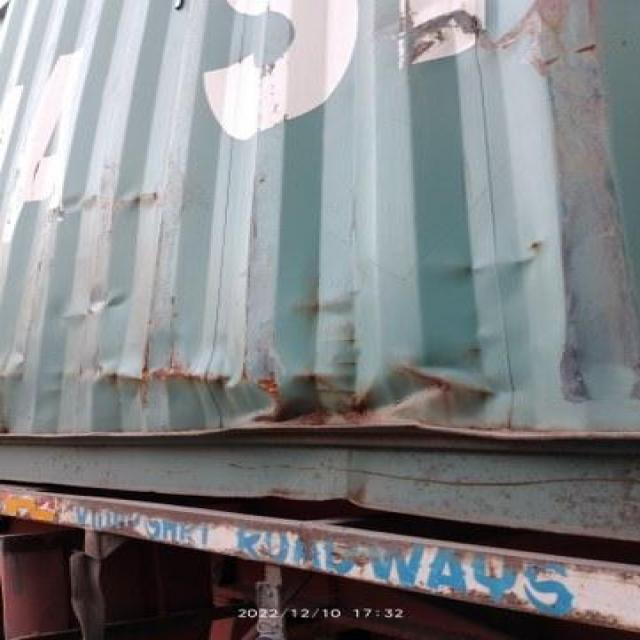Dent: (247, 360, 506, 441)
Rust: (245, 382, 404, 431), (87, 344, 231, 394)
